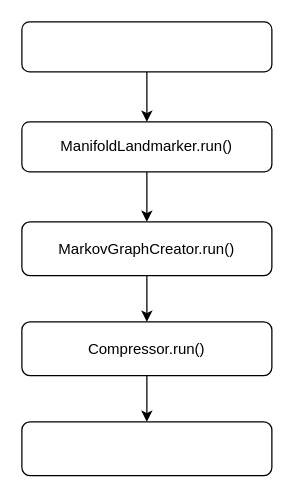
Some shapes in this 294 by 498 pixel diagram are drawn without their labels. Here are the shapes that lost their labels. From the top down, the centre of each, then its label:
At point (146, 46): "DataProcessor.load_data()".
At point (146, 448): "AlgoComparer.run()".
